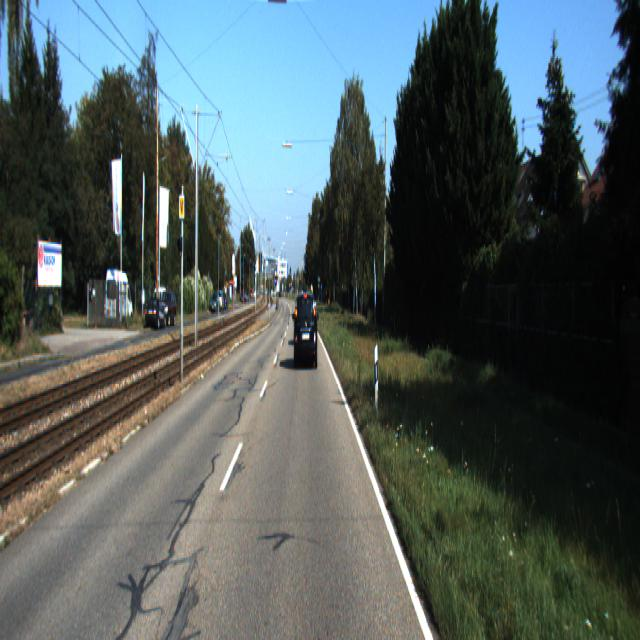Car: (294, 290, 318, 370), (104, 269, 134, 328), (145, 298, 168, 332)
